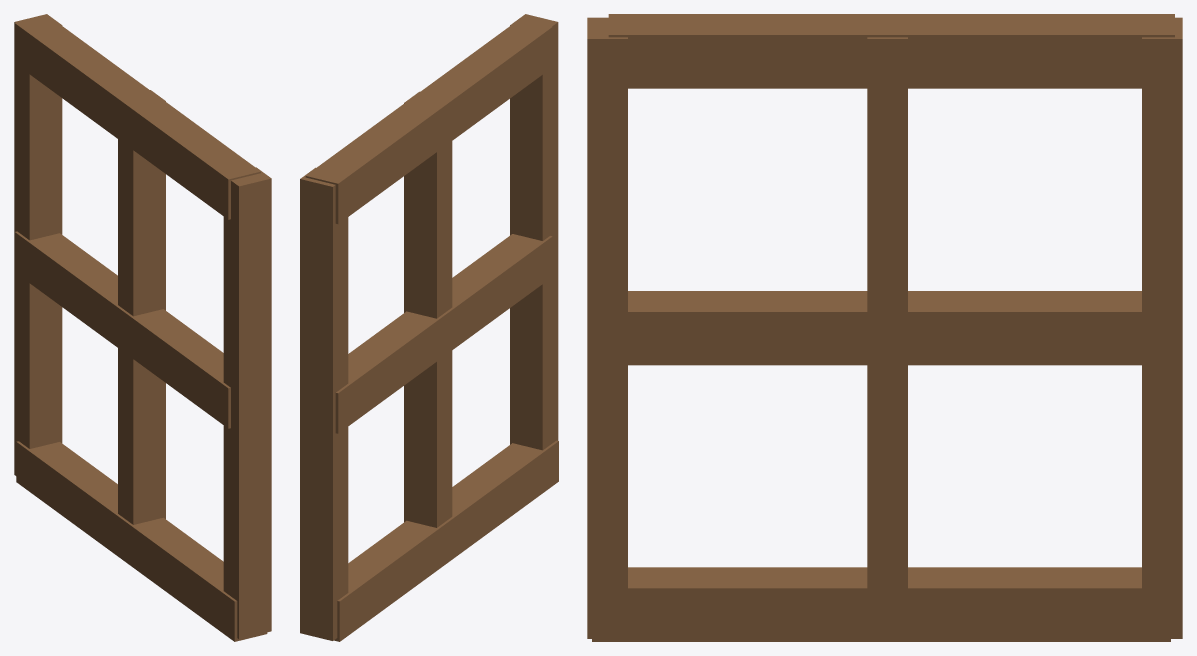
The model's file is Window_Frame.fbx.
The picture shows the model from 3 angles, left to right: view 1: azimuth 30°, elevation 25°; view 2: azimuth 150°, elevation 25°; view 3: azimuth 270°, elevation 25°; orthographic projection. The views are drawn at different scales.
Visible parts, largest first — view 1: Window; view 2: Window; view 3: Window.
Boxes of the visible parts, x1,y1,x2,y2 form: Window: [14, 14, 271, 641]; Window: [300, 14, 558, 641]; Window: [587, 14, 1182, 641].
Bounding box in the file's own units: 0.5563 × 6.93 × 6.17.
